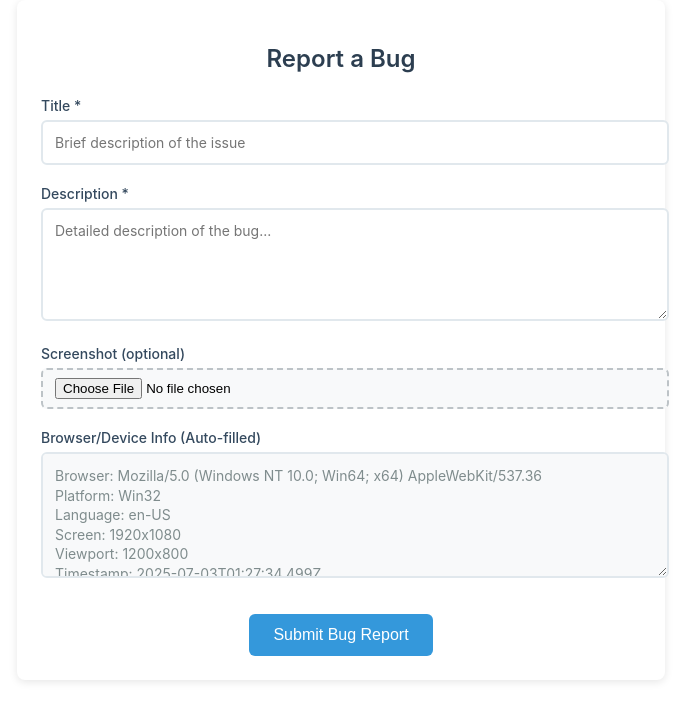
BugReportForm › Form Submission (Missing Title/Description) › displays validation errors and prevents submission when description is missing
Type "Title only" into the field labelled "Title *".
click(355, 142); type("Title only")  # box x1=41 y1=120 x2=669 y2=165
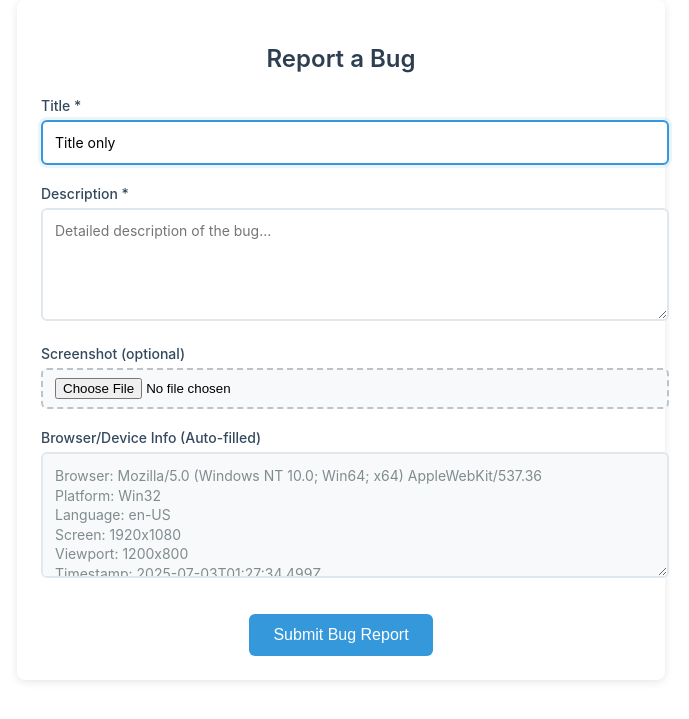
Click the button "Submit Bug Report".
click(341, 635)  # box x1=249 y1=614 x2=433 y2=656
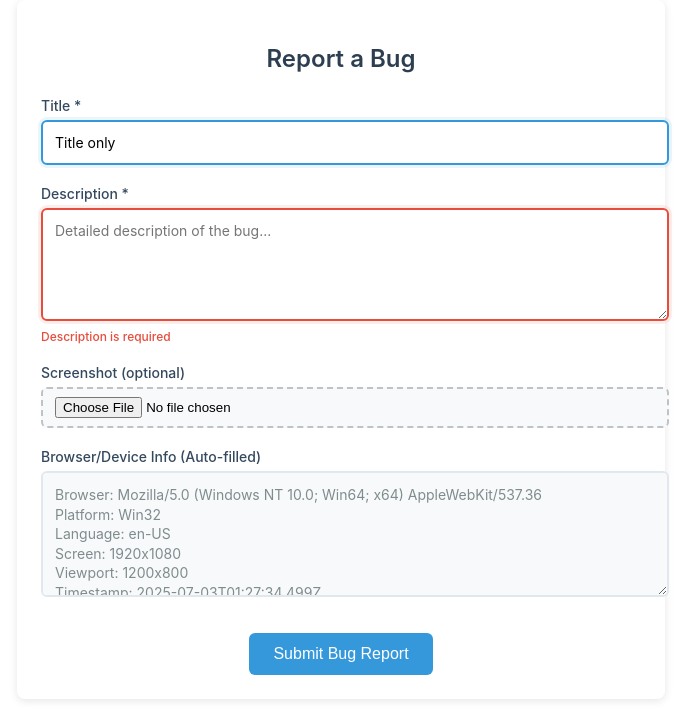
Check: the text "Description is required" is shown, box x1=41 y1=329 x2=171 y2=344
